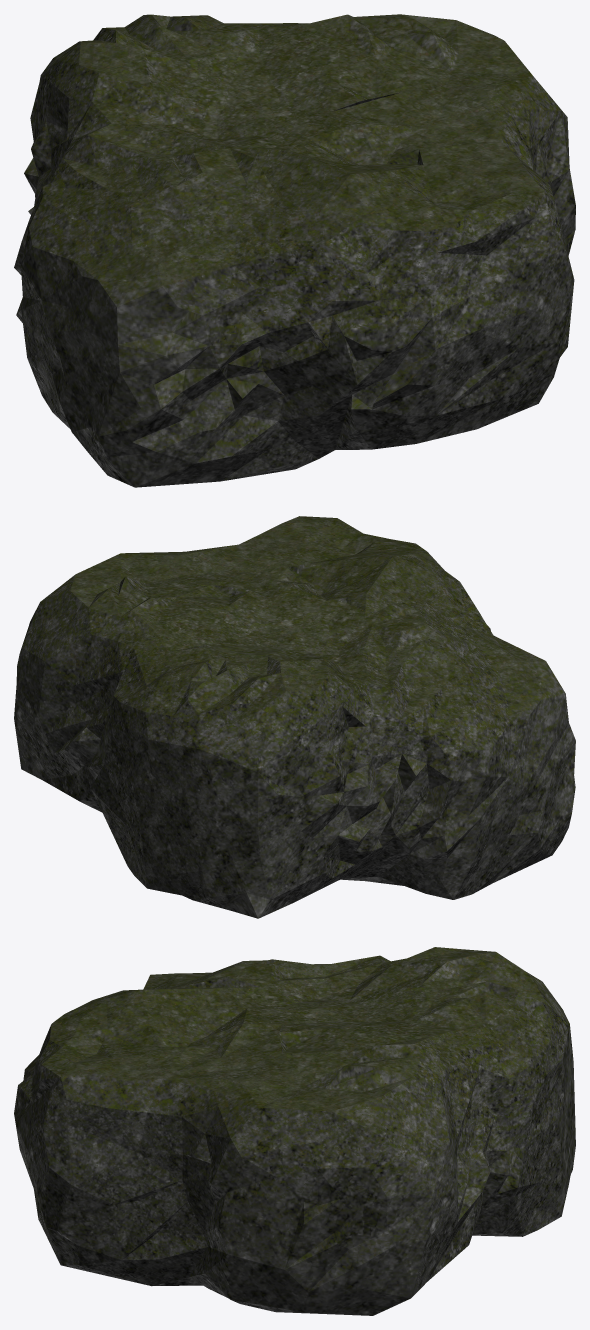
The model's file is Rock big 1.fbx.
The picture shows the model from 3 angles, top to bottom: view 1: azimuth 30°, elevation 25°; view 2: azimuth 150°, elevation 25°; view 3: azimuth 270°, elevation 25°; orthographic projection. The views are drawn at different scales.
Visible parts, largest first — view 1: Rock big 1; view 2: Rock big 1; view 3: Rock big 1.
Boxes of the visible parts, x1,y1,x2,y2 form: Rock big 1: [14, 14, 575, 487]; Rock big 1: [14, 516, 575, 918]; Rock big 1: [14, 947, 575, 1315].
Size of the model in its own units: 4.86 by 2.6 by 4.94.
